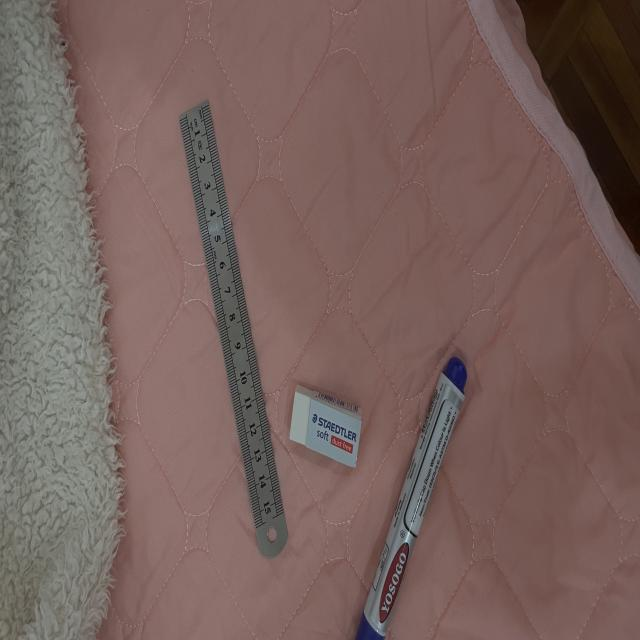eraser: (290, 385, 362, 467)
marker: (356, 357, 467, 640)
ruler: (180, 101, 288, 557)
